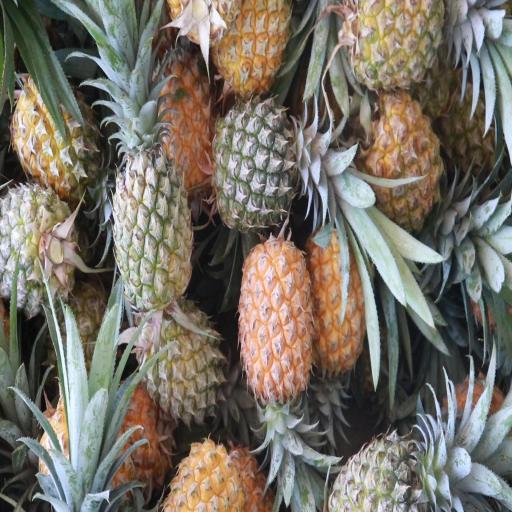------------------------------: (110, 133, 190, 303), (7, 76, 96, 190), (137, 306, 223, 422), (344, 0, 442, 92)
Pineapple - v8 v1: (241, 240, 317, 399), (364, 92, 442, 222), (310, 228, 372, 374), (158, 53, 219, 188), (217, 0, 290, 100)
